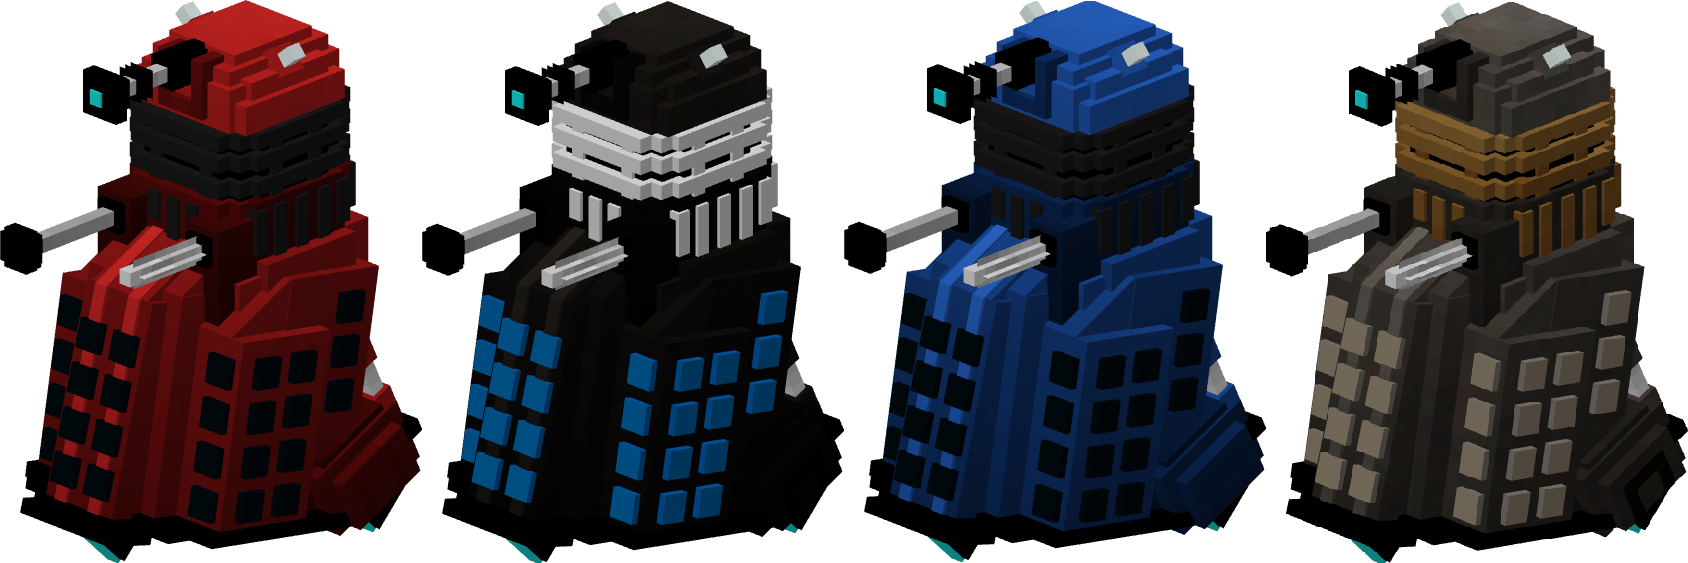dalek: (1269, 0, 1688, 563), (378, 33, 828, 491), (939, 0, 1293, 521), (44, 0, 340, 491)
